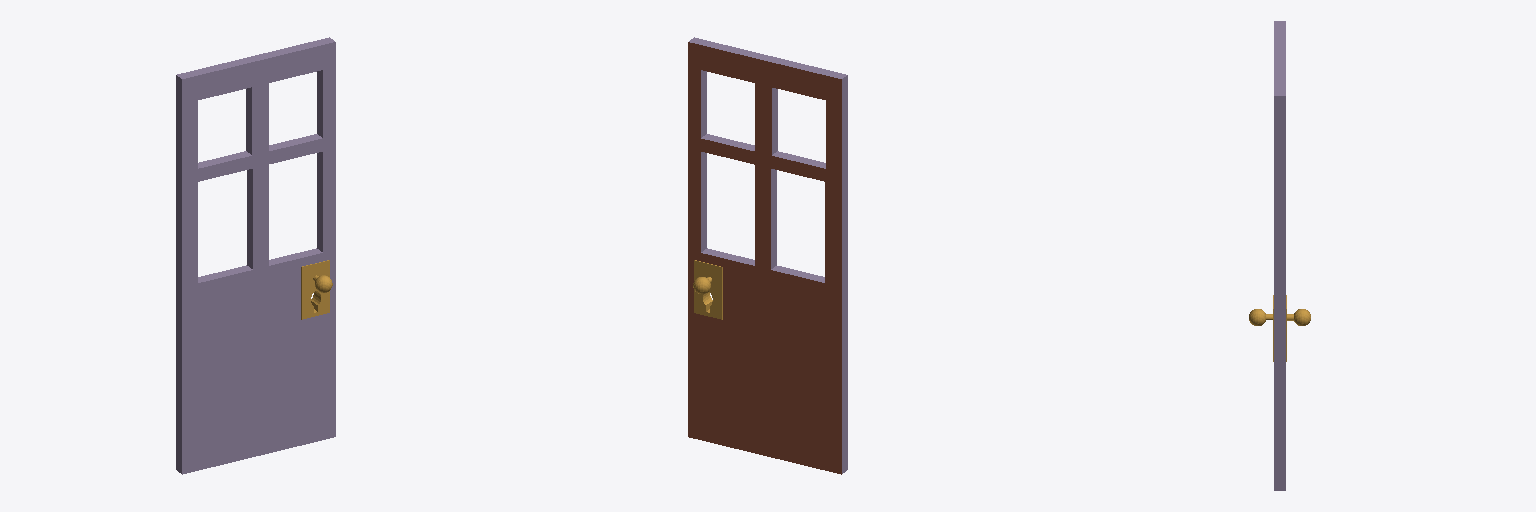
The picture shows the model from 3 angles: view 1: azimuth 30°, elevation 25°; view 2: azimuth 150°, elevation 25°; view 3: azimuth 270°, elevation 25°; orthographic projection.
Parts seen in each view (by area): view 1: polySurface55; view 2: polySurface55; view 3: polySurface55.
Part boxes in pixels (left/top/right/bottom): polySurface55: left=176, top=37, right=335, bottom=474; polySurface55: left=688, top=37, right=847, bottom=474; polySurface55: left=1249, top=21, right=1310, bottom=490.
Size of the model in its own units: 3.36 by 8.24 by 1.18.
3 materials, 3 textured.